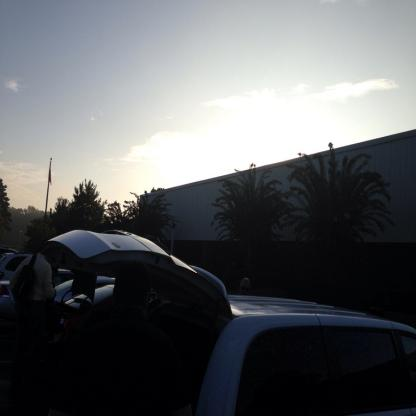Car: (1, 226, 416, 416)
